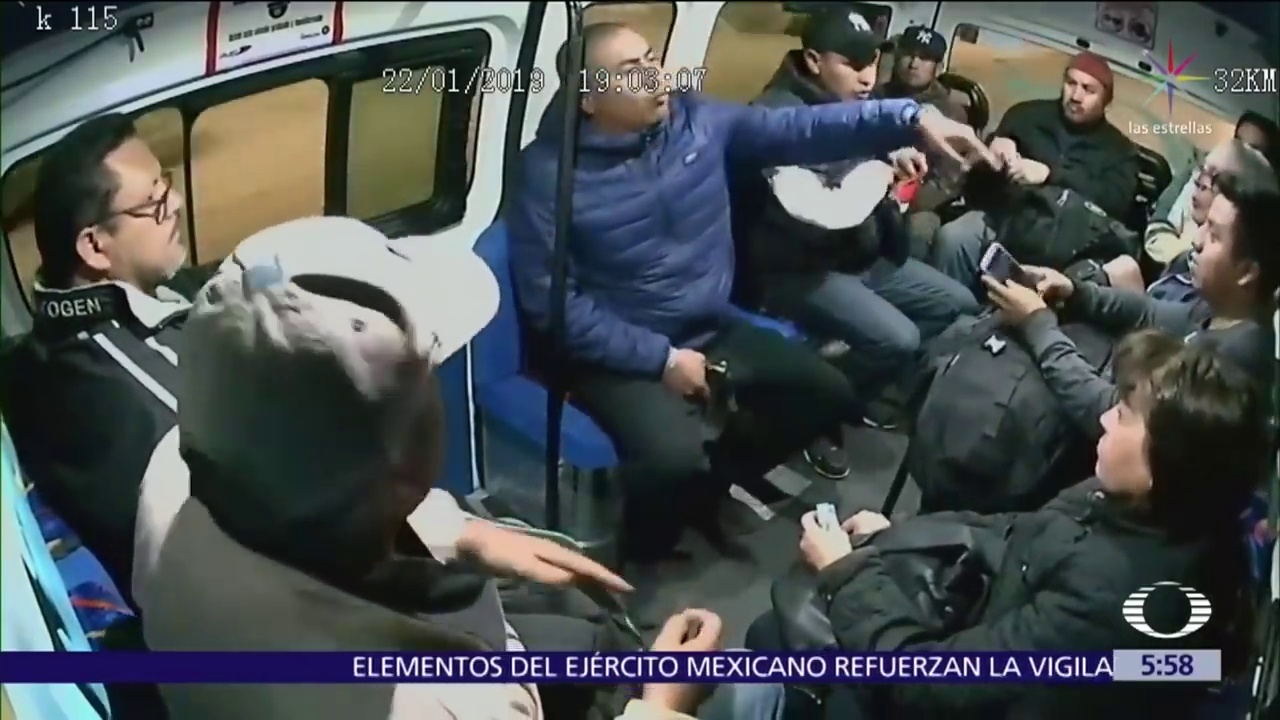pistol: (684, 358, 743, 421)
